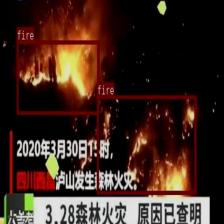fire: (96, 94, 196, 194), (16, 40, 99, 114)
